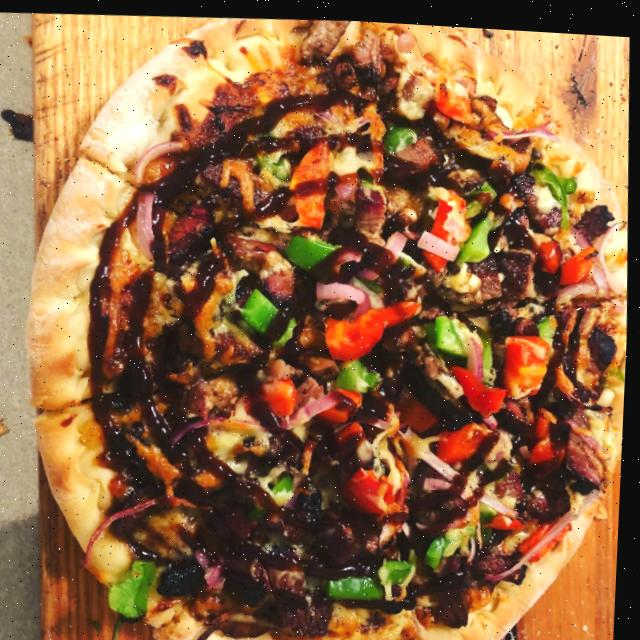pizza: (3, 1, 640, 640)
